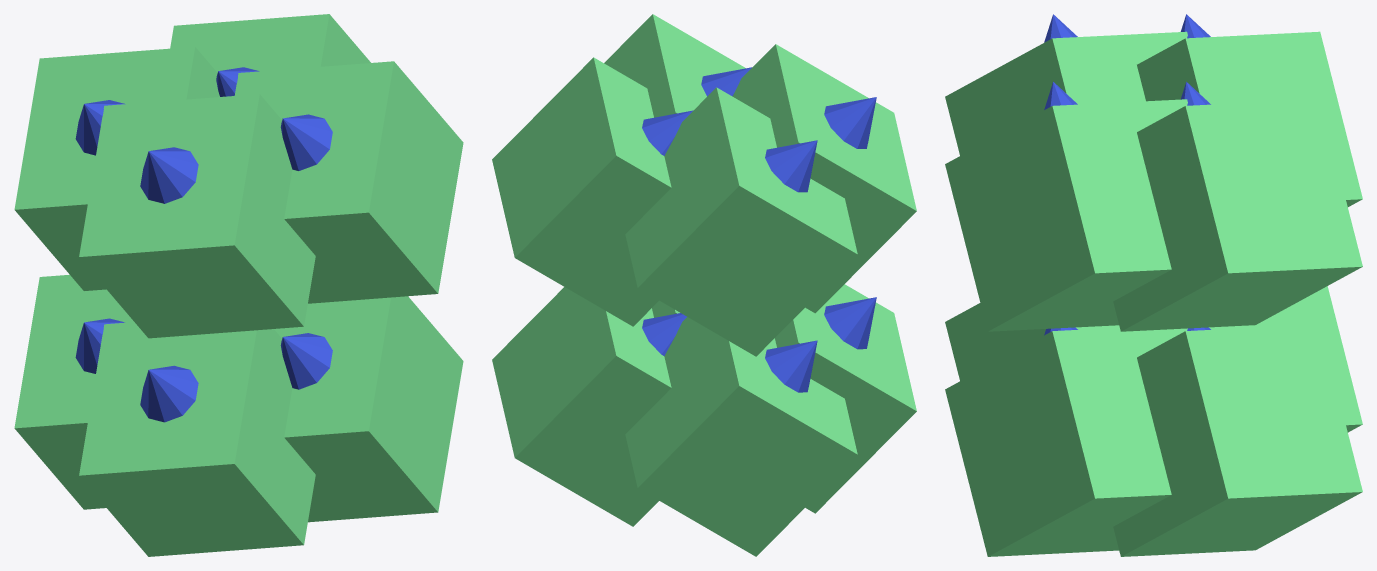
Rendered from proceduraltoMesh.fbx.
3 views of the same model, side by side, from view 1: azimuth 30°, elevation 25°; view 2: azimuth 150°, elevation 25°; view 3: azimuth 270°, elevation 25° (orthographic). The views are drawn at different scales.
Visible parts, largest first — view 1: Cube.001; view 2: Cube.001; view 3: Cube.001.
Boxes of the visible parts, <box> form: Cube.001: <box>14,14,463,556</box>; Cube.001: <box>492,14,916,556</box>; Cube.001: <box>945,14,1362,556</box>.
Size of the model in its own units: 526 by 601 by 471.
